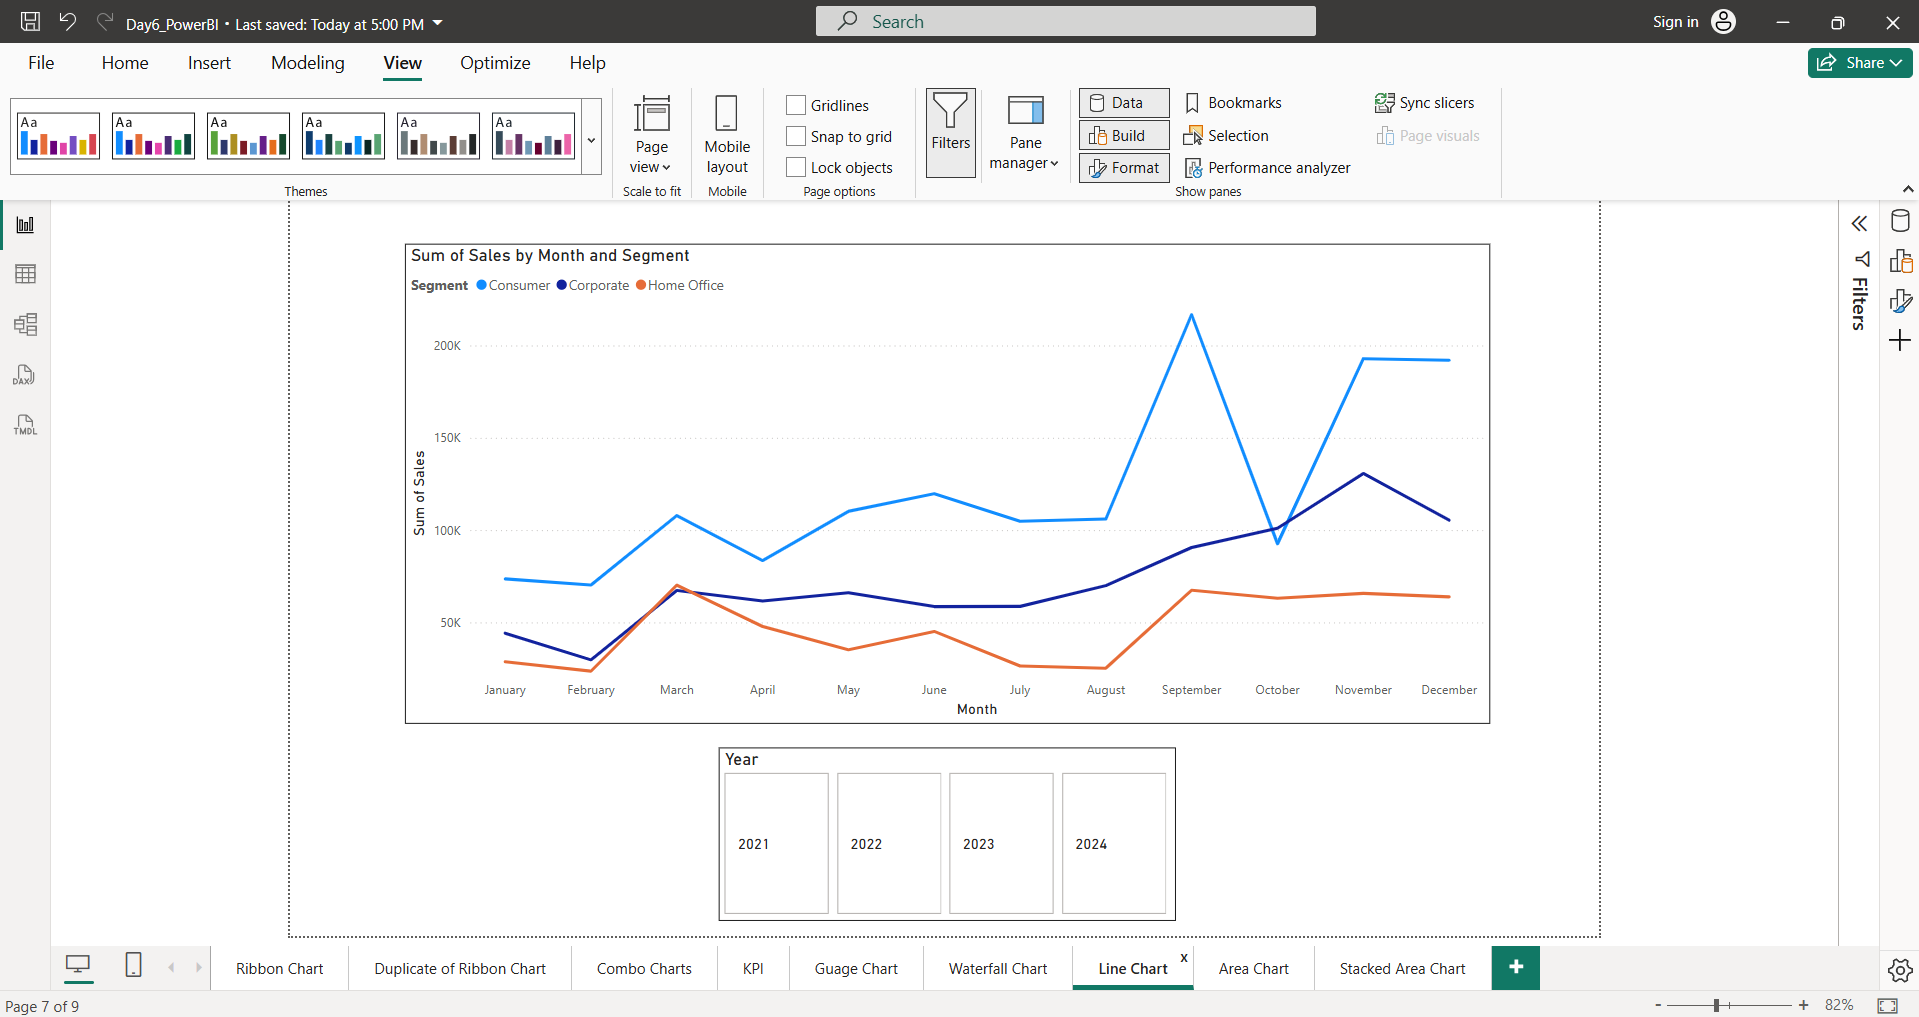

The page's visual inventory and layout, read from the dashboard file:
{"tool":"powerbi","page":{"name":"Line Chart","canvas":[1280,720],"ordinal":6},"visuals":[{"type":"lineChart","fields":{"Category":["India New Data.Order Date.Variation.Date Hierarchy.Month"],"Y":["Sum(India New Data.Sales)"],"Series":["India New Data.Segment"]},"box":[112.5,42.8,1061.4,469.6],"z":0},{"type":"advancedSlicerVisual","fields":{"Values":["India New Data.Order Date.Variation.Date Hierarchy.Year"]},"box":[419.4,535.6,447.6,170],"z":1}]}

Visuals, with their boxes on the page's 1280x720 design canvas (x1, y1, x2, y2). These are canvas units, not pixel positions in the 1919x1017 screenshot, which may show the page scaled, cropped or inside an application window:
lineChart - India New Data.Order Date.Variation.Date Hierarchy.Month x Sum(India New Data.Sales): Rect(112, 43, 1174, 512)
advancedSlicerVisual - India New Data.Order Date.Variation.Date Hierarchy.Year: Rect(419, 536, 867, 706)
